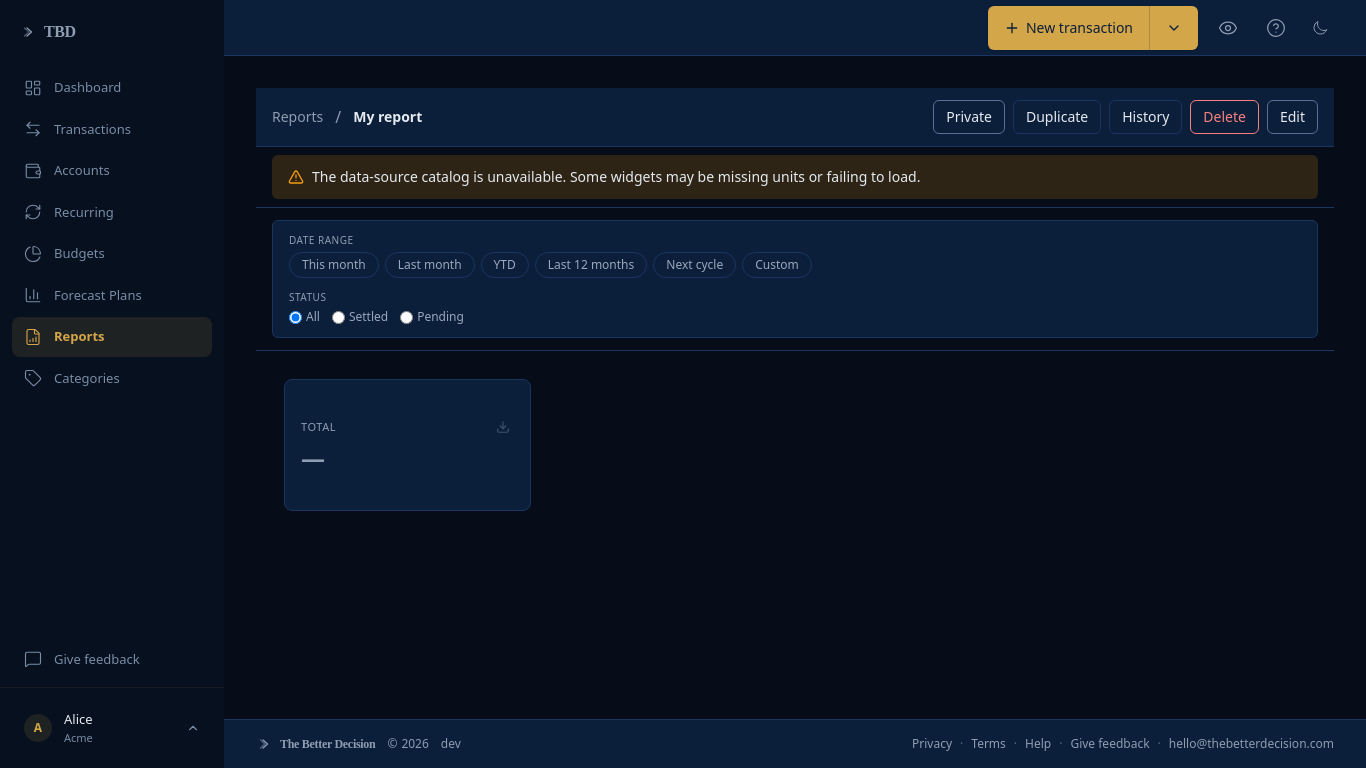
Test: ReportEditorPage › Edit enters edit mode; Save is disabled until a change, which also reveals Cancel
Expected: the element with test id "kpi-widget" is shown, [284,379,531,511]
Click the button with test id "report-editor-toggle-edit" at x=1292, y=117, box [1267,100,1318,134]
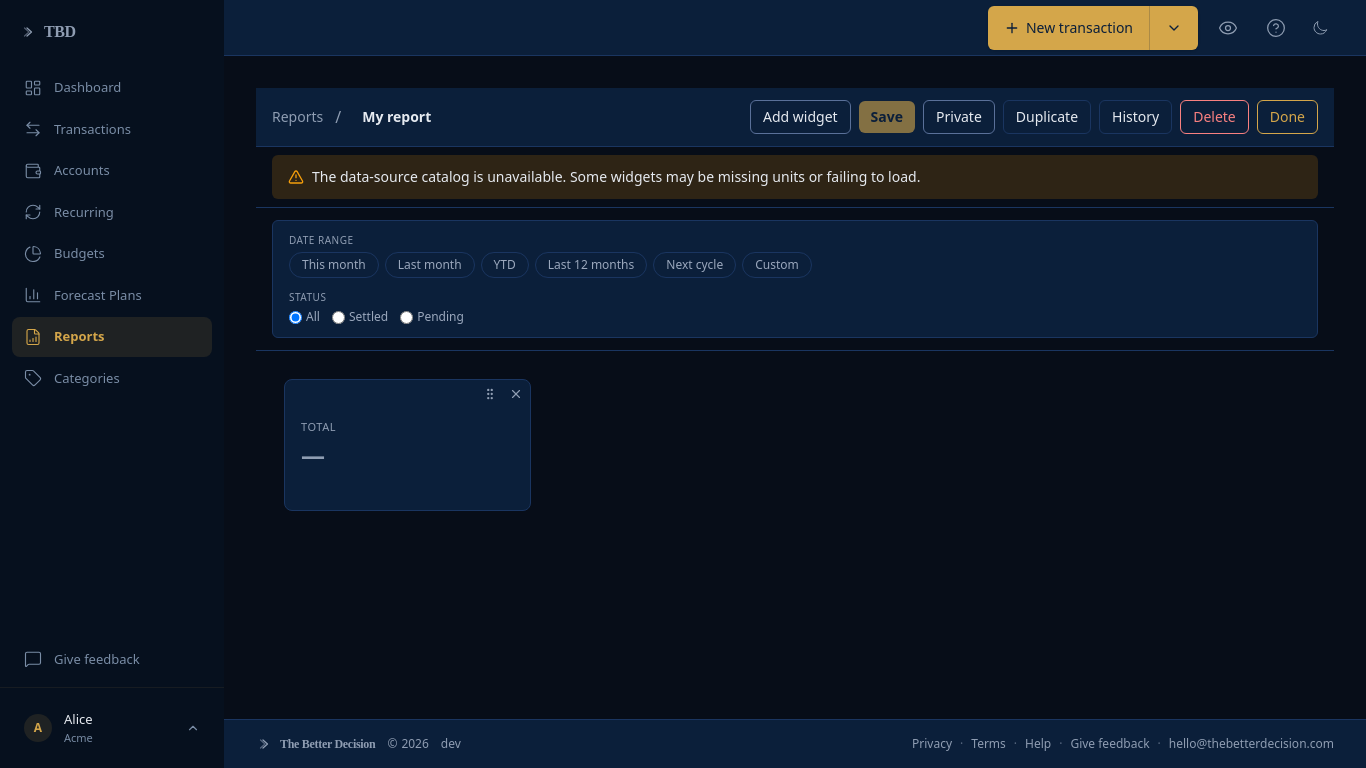
Now the button with test id "report-editor-add-widget" is shown
Now the button with test id "report-editor-toggle-edit" reads "Done", box [1257,100,1318,134]
Now the button with test id "report-editor-save" is disabled, box [859,101,915,133]
Make a change → Save enables, Cancel appears.
Click the button with test id "report-editor-add-widget" at x=800, y=117, box [750,100,851,134]
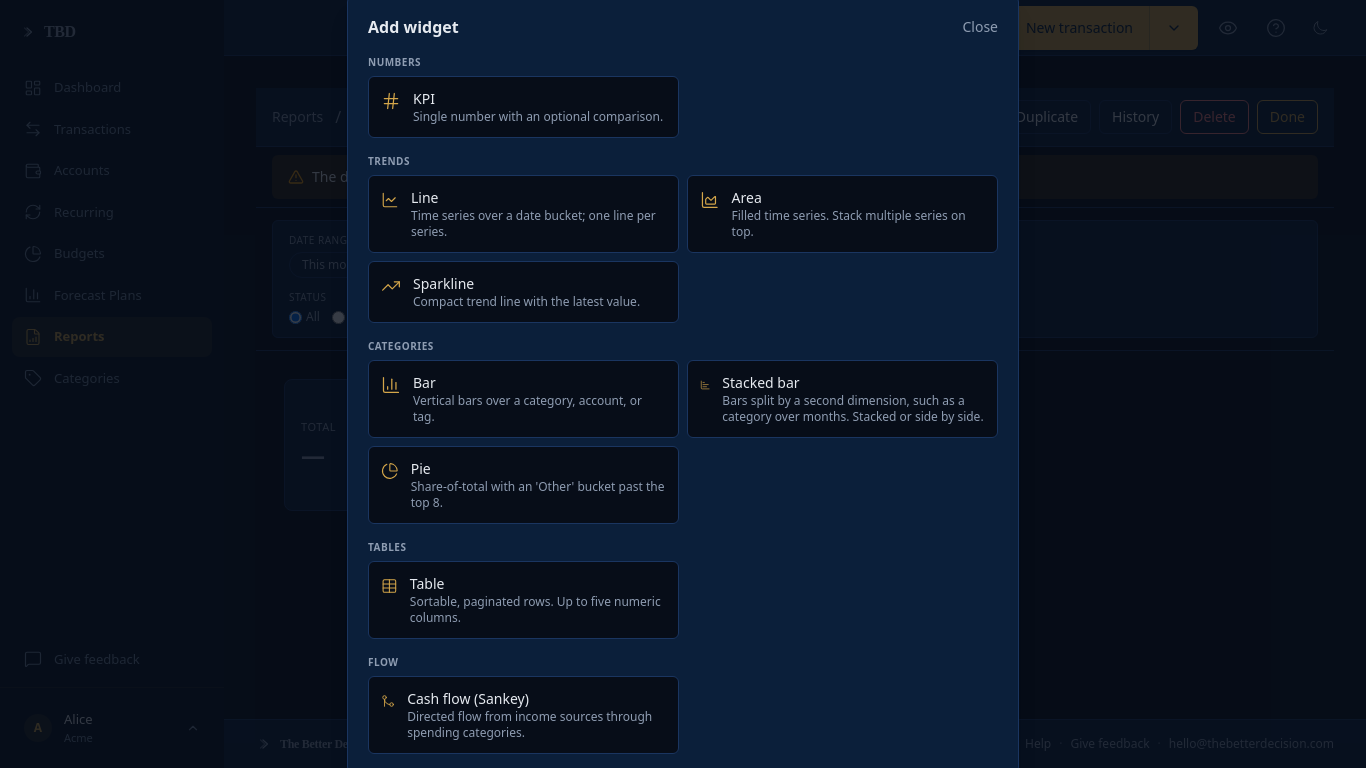
Click the button with test id "widget-picker-option-bar" at x=524, y=398, box [368,360,679,438]
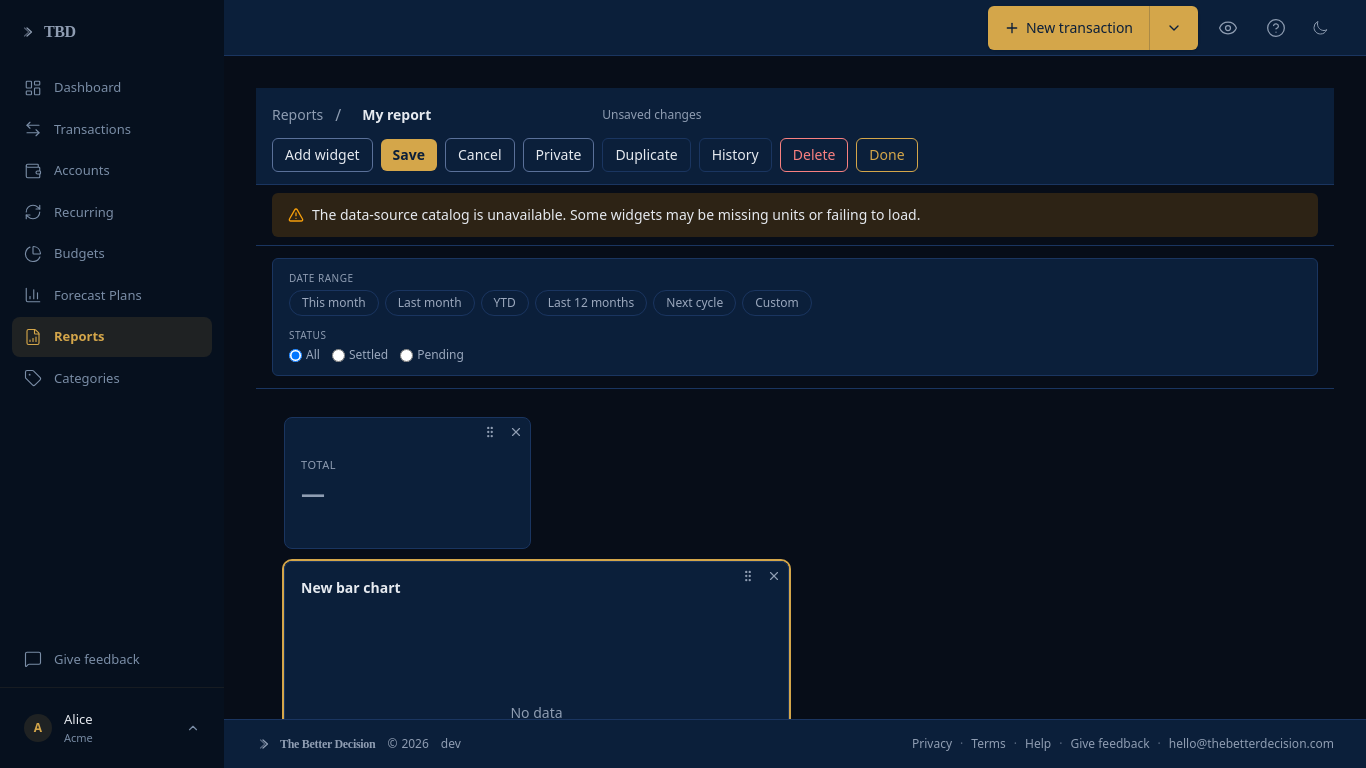
Now the button with test id "report-editor-save" is enabled, box [381,139,437,171]
Now the button with test id "report-editor-cancel" is shown, box [445,138,515,172]
